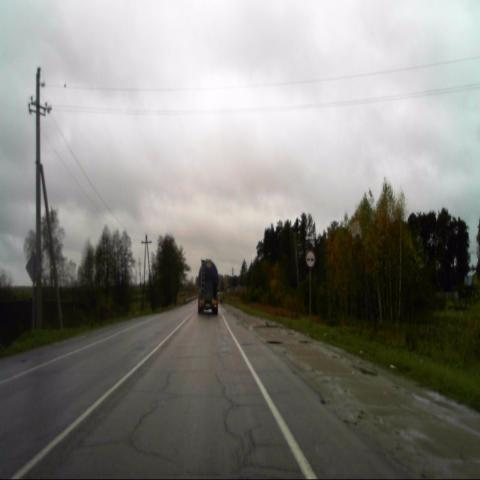3_20: (306, 248, 315, 269)
